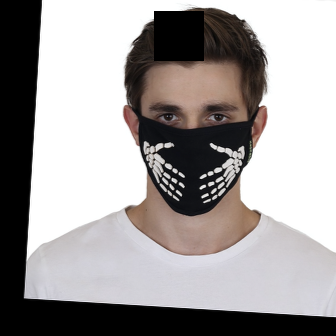with_mask: (135, 91, 252, 217)
